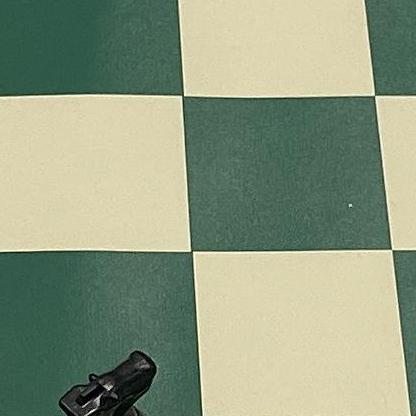black-knight: (32, 350, 164, 416)
